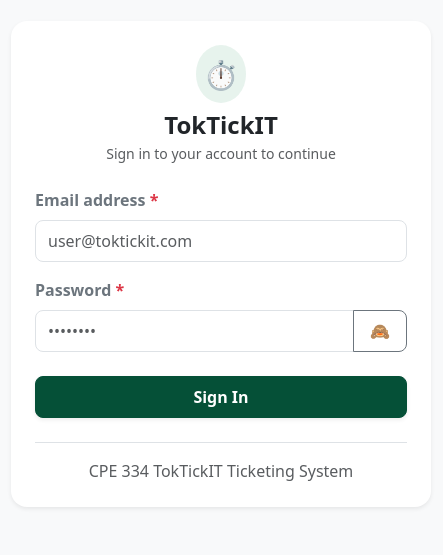
Test: LoginView Component (Lab 3 UI-AUTH-01) › shows error alert when login fails with invalid credentials
Type "wrong@toktickit.com" into the field labelled "Email address *". click: (221, 241)
box: [35,220,407,262]
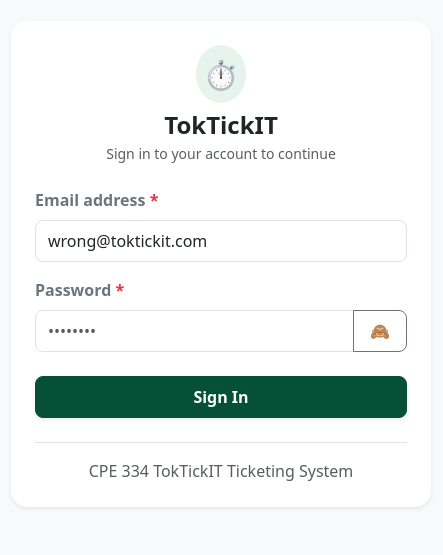
Type "WrongPass123!" into the password field with placeholder "••••••••". click: (194, 331)
box: [35,310,354,352]
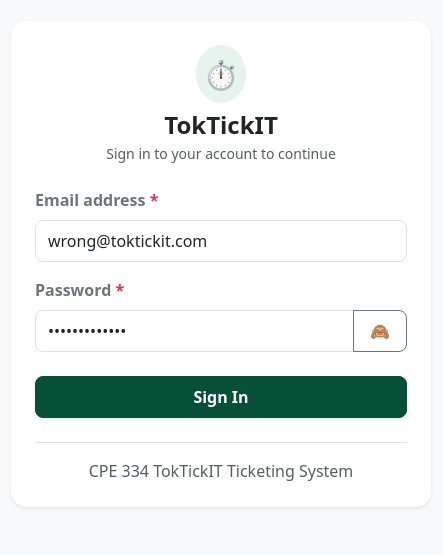
Click the button "Sign In". click: (221, 397)
box: [35,376,407,418]
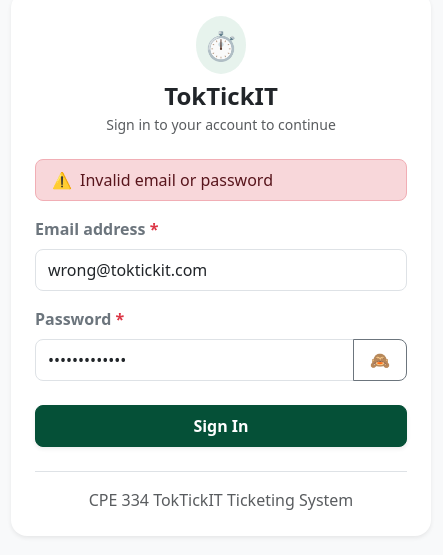
expect the text "Invalid email or password" is shown: met, box [80,168,273,192]
